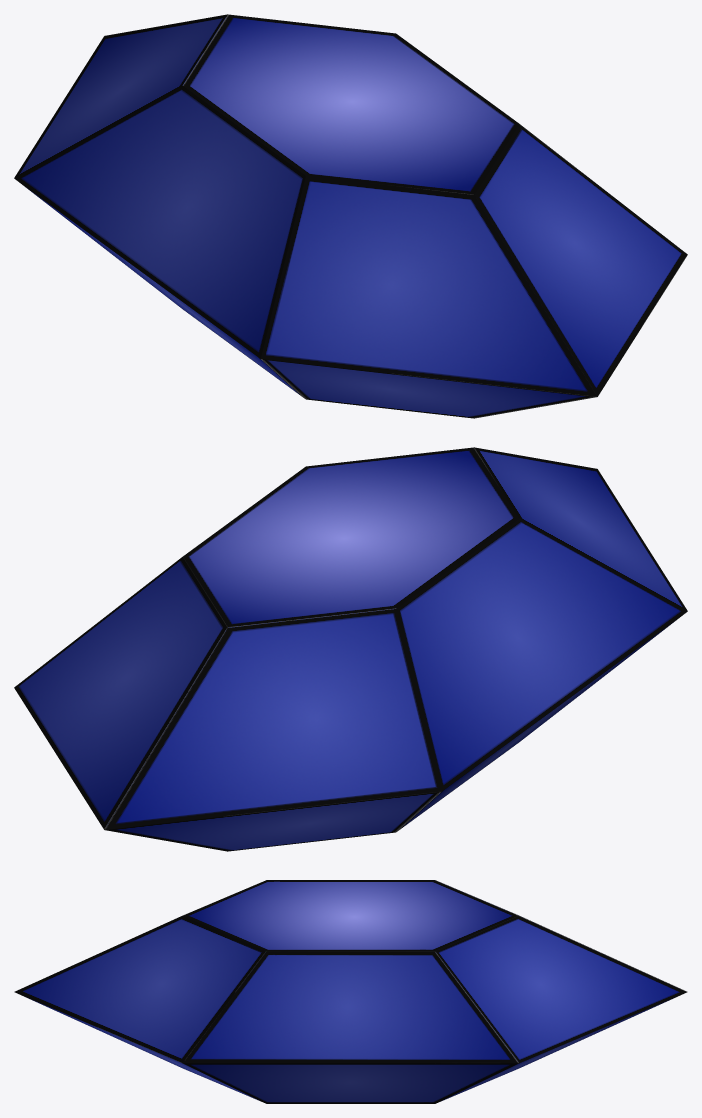
Rendered from linemate.obj.
The picture shows the model from 3 angles, top to bottom: view 1: azimuth 30°, elevation 25°; view 2: azimuth 150°, elevation 25°; view 3: azimuth 270°, elevation 25°; orthographic projection. The views are drawn at different scales.
Visible parts, largest first — view 1: Cube; view 2: Cube; view 3: Cube.
Part boxes in pixels (bbox=[...]): Cube: bbox=[14, 14, 687, 418]; Cube: bbox=[14, 447, 687, 851]; Cube: bbox=[14, 880, 687, 1103].
Size of the model in its own units: 4 by 2 by 8.
1 material, 1 textured.
